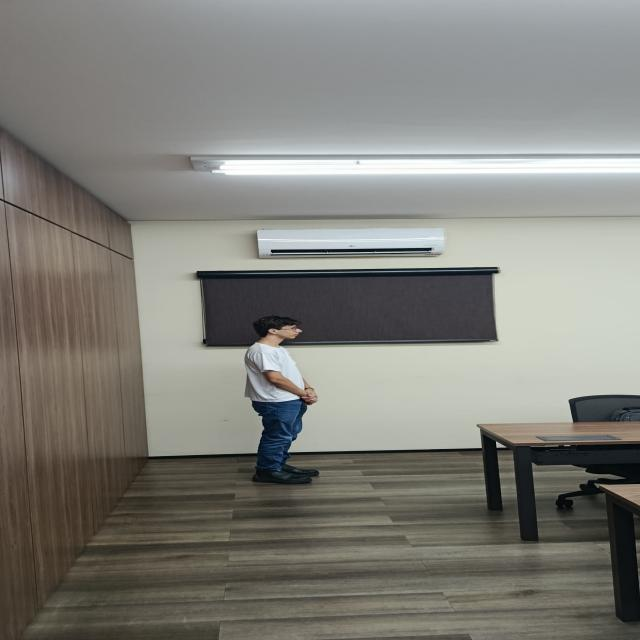sem_oculos: (277, 327, 298, 331)
